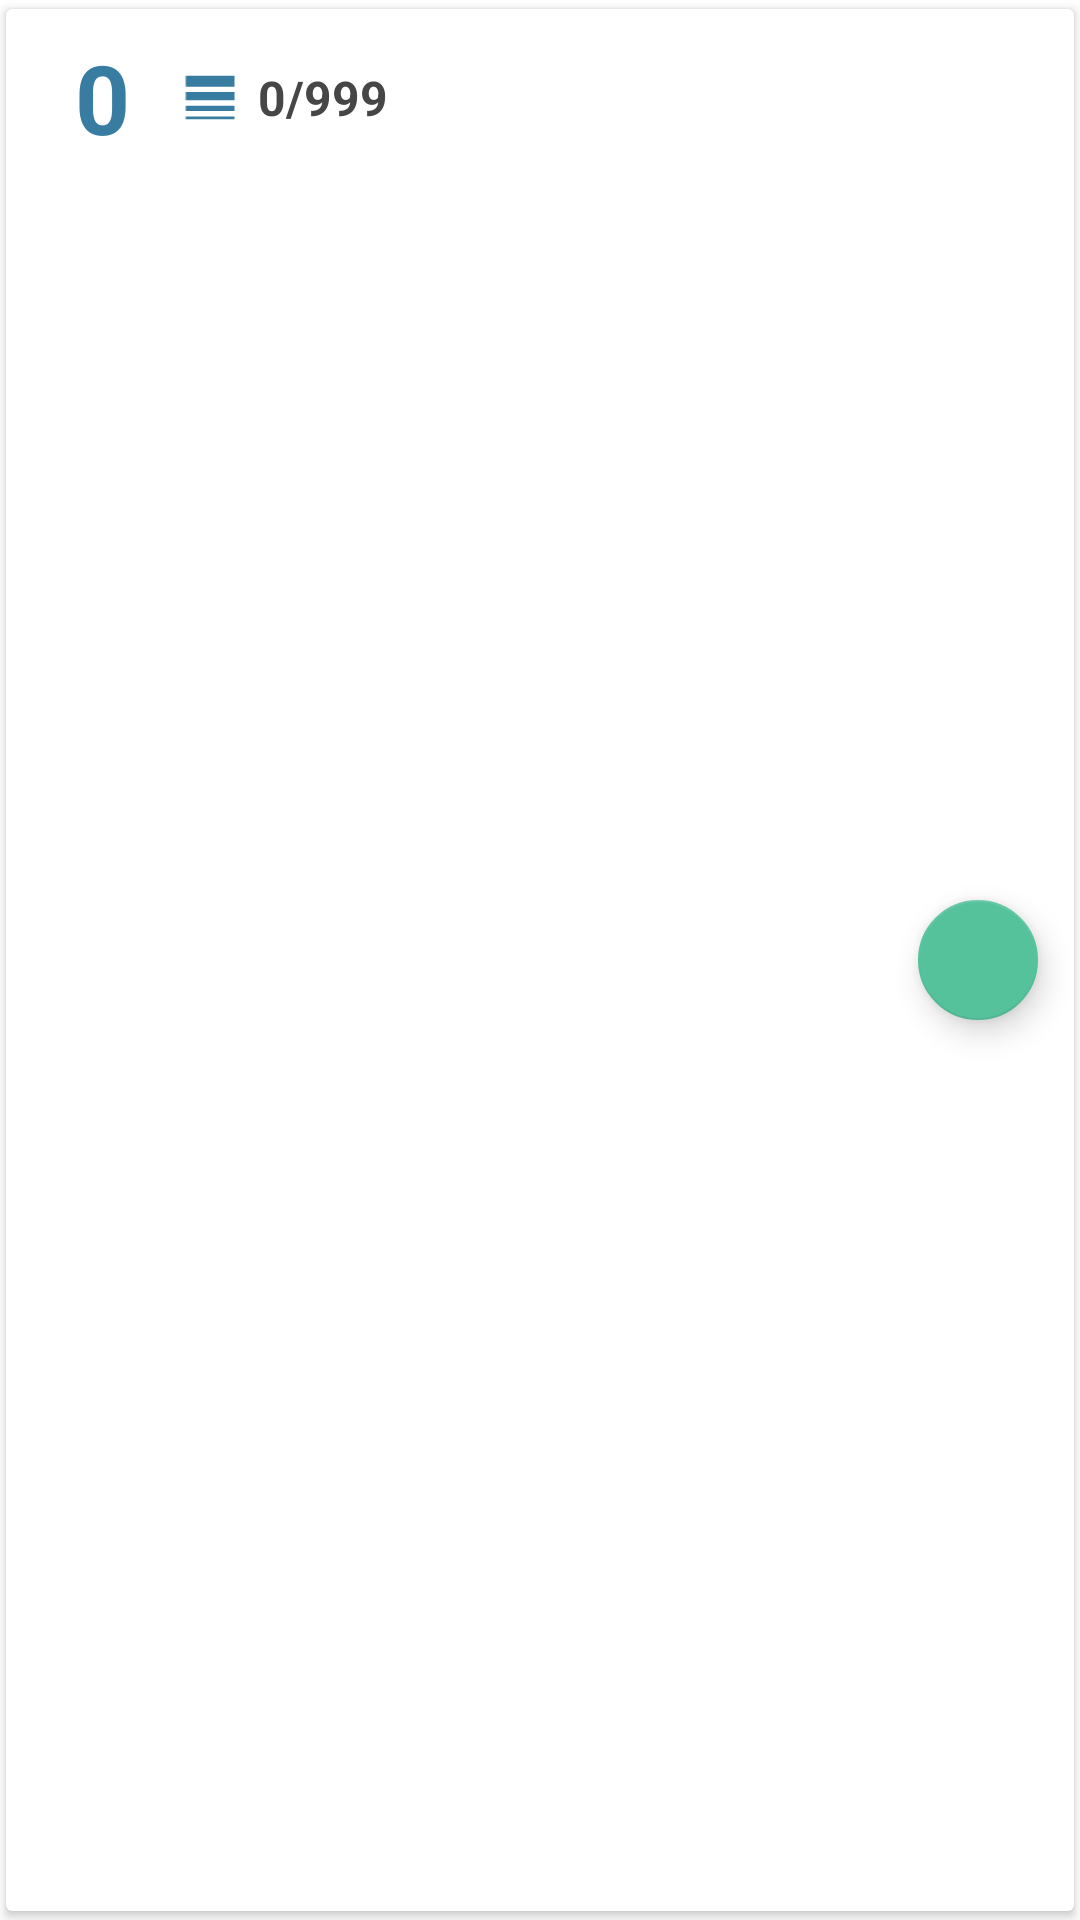

Icons on this 1080 x 1920 Android screen, each with the point to tap as (x=x, y=y):
line weight: (x=210, y=97)
